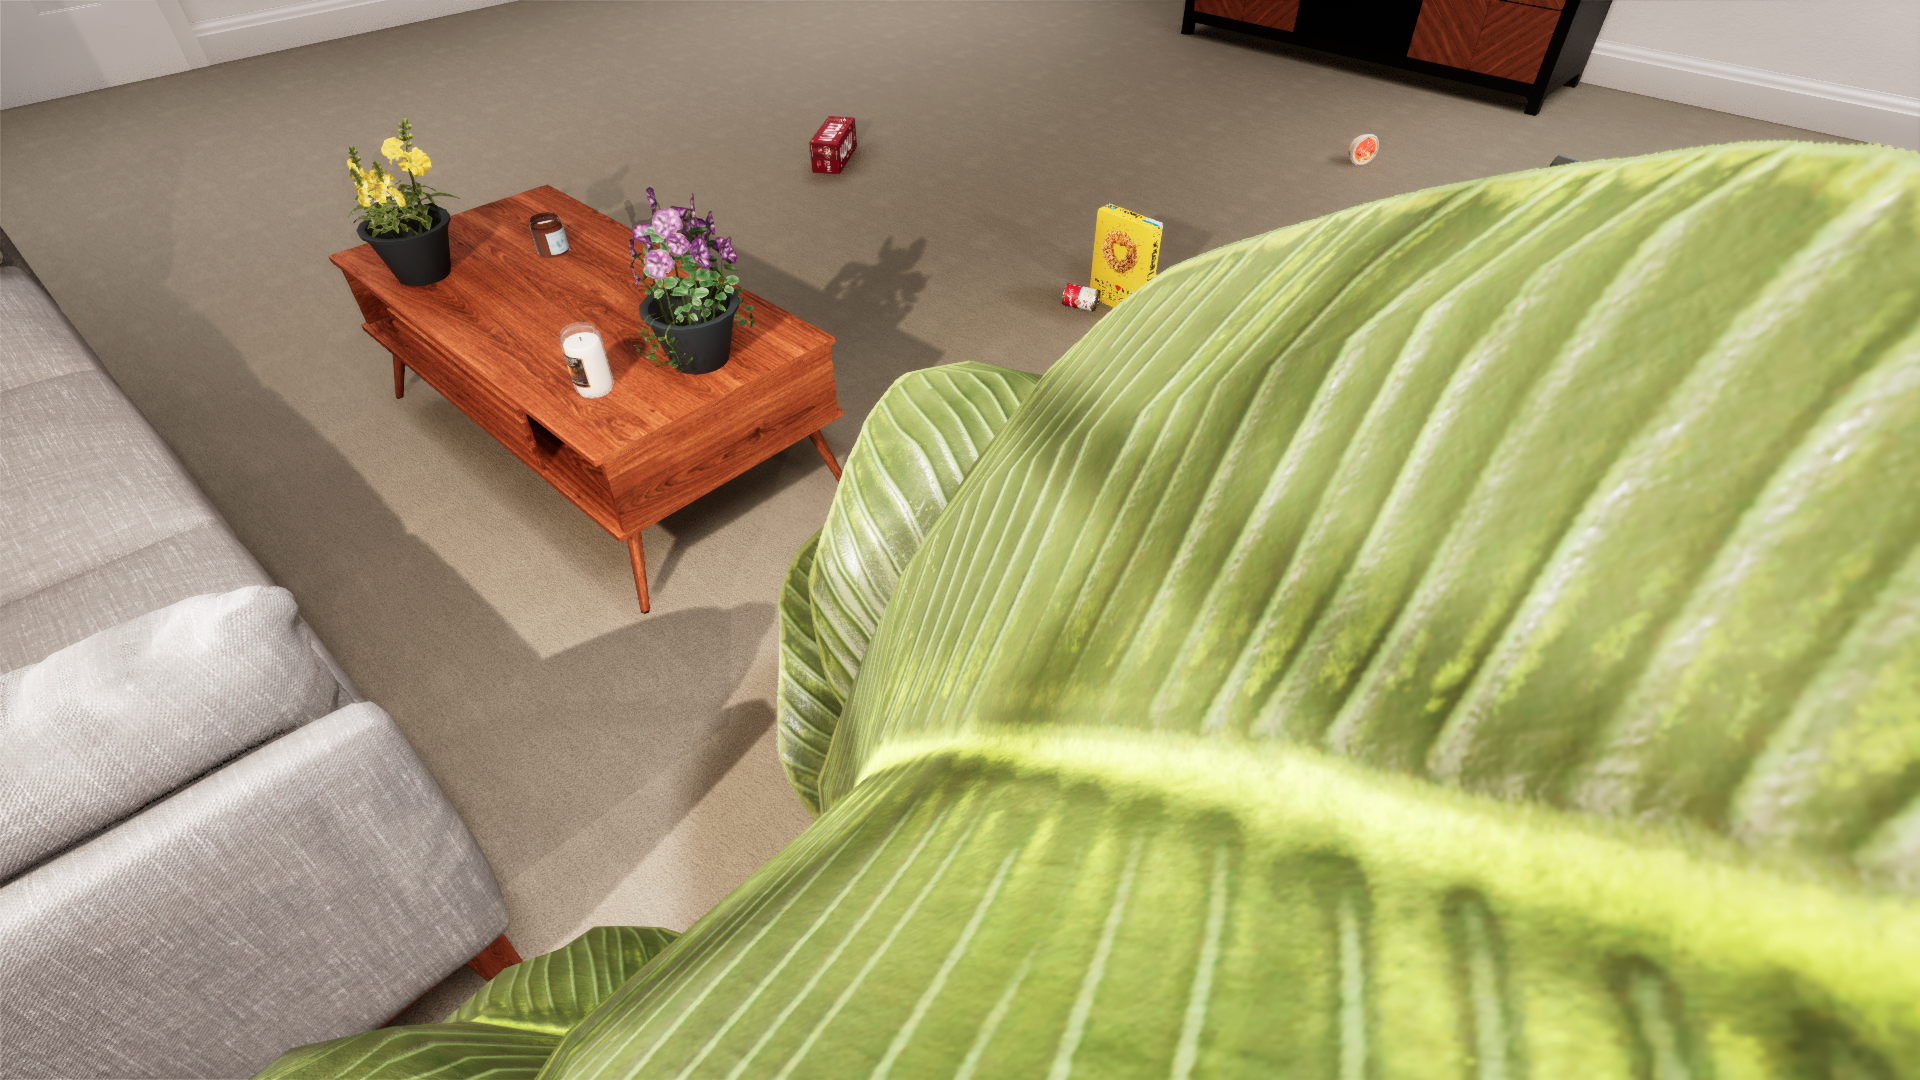cheerios: (688, 0, 1055, 583)
soup: (538, 509, 728, 731)
